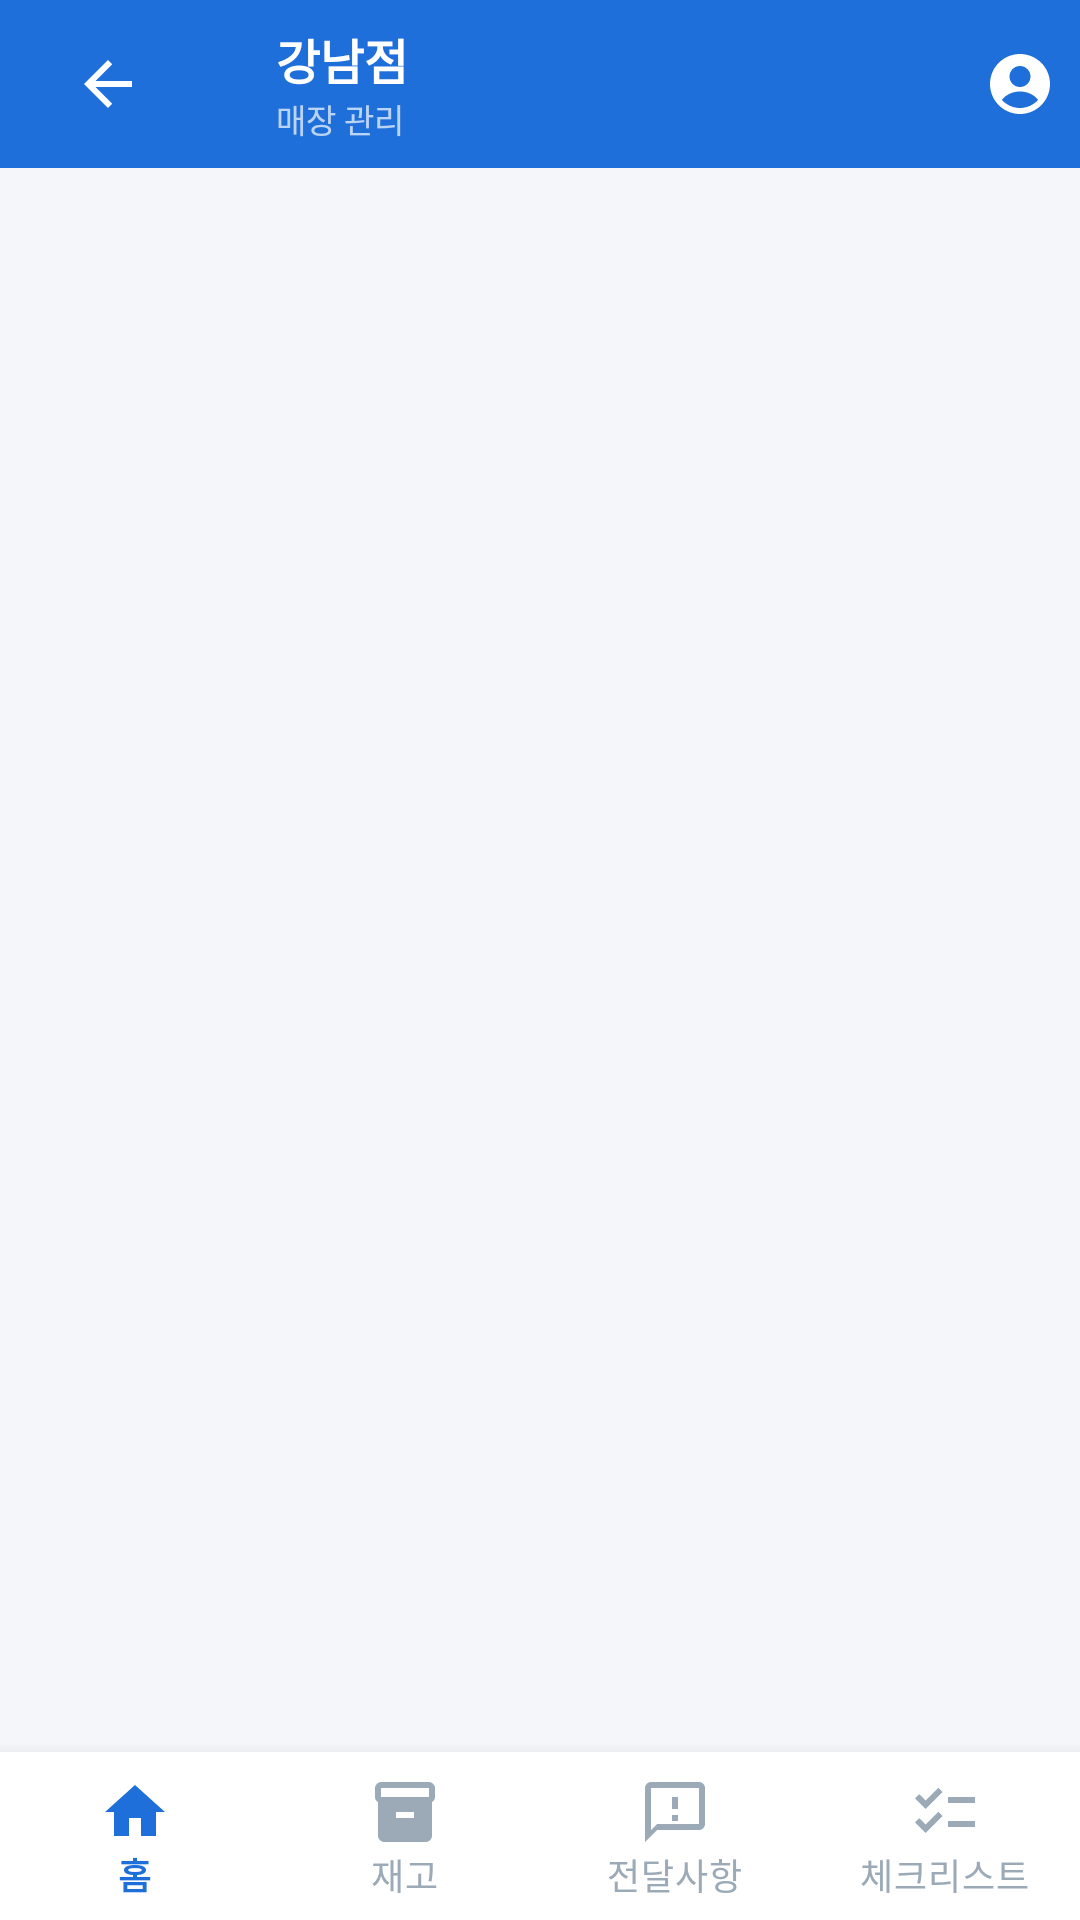

Locate icon controls on the screen. Image size 1080w x 1920h, boxes as (x1, y1, x2, y2).
뒤로가기: (84, 60, 132, 108)
프로필: (990, 54, 1050, 114)
